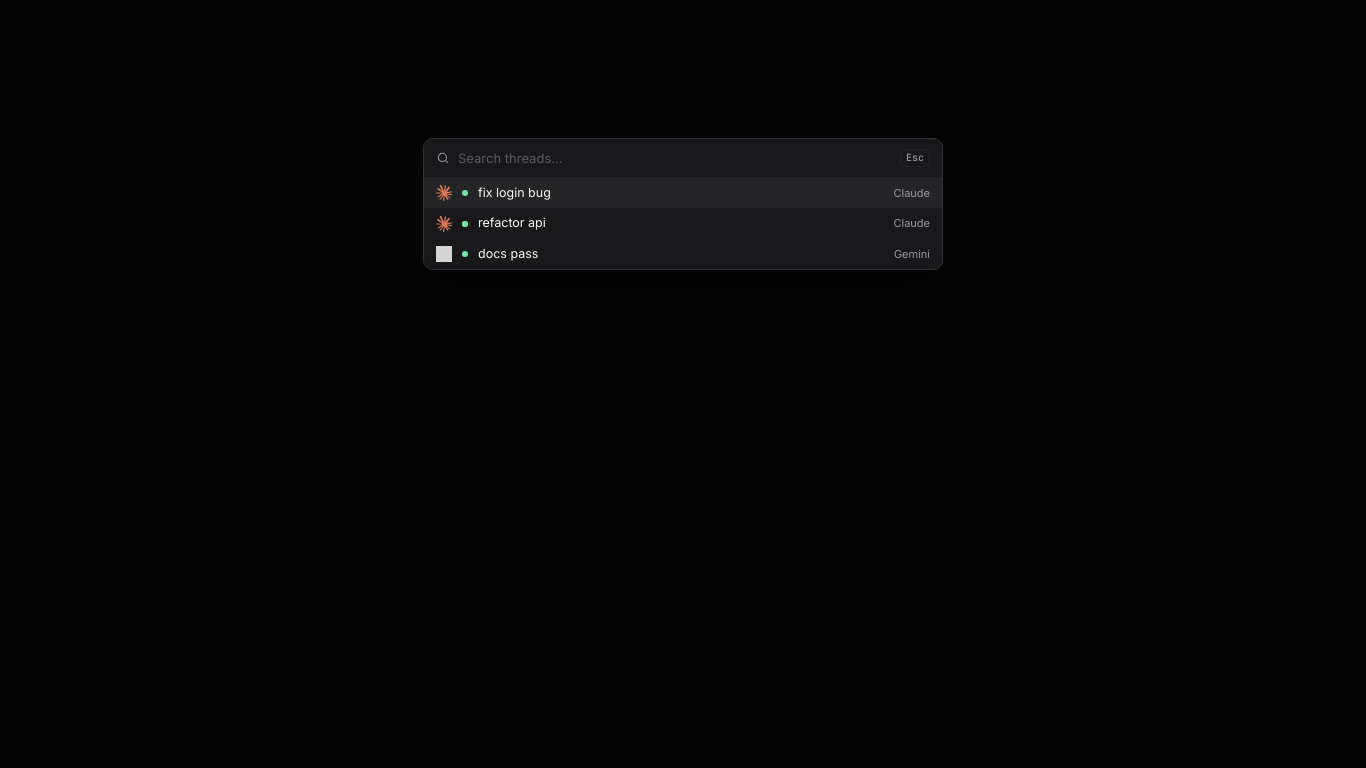
it: SearchCommand › filters threads by case-insensitive substring match on name
The image size is (1366, 768).
Type "API" into the field with placeholder "Search threads..." at (675, 158), box 458,150 -> 892,167
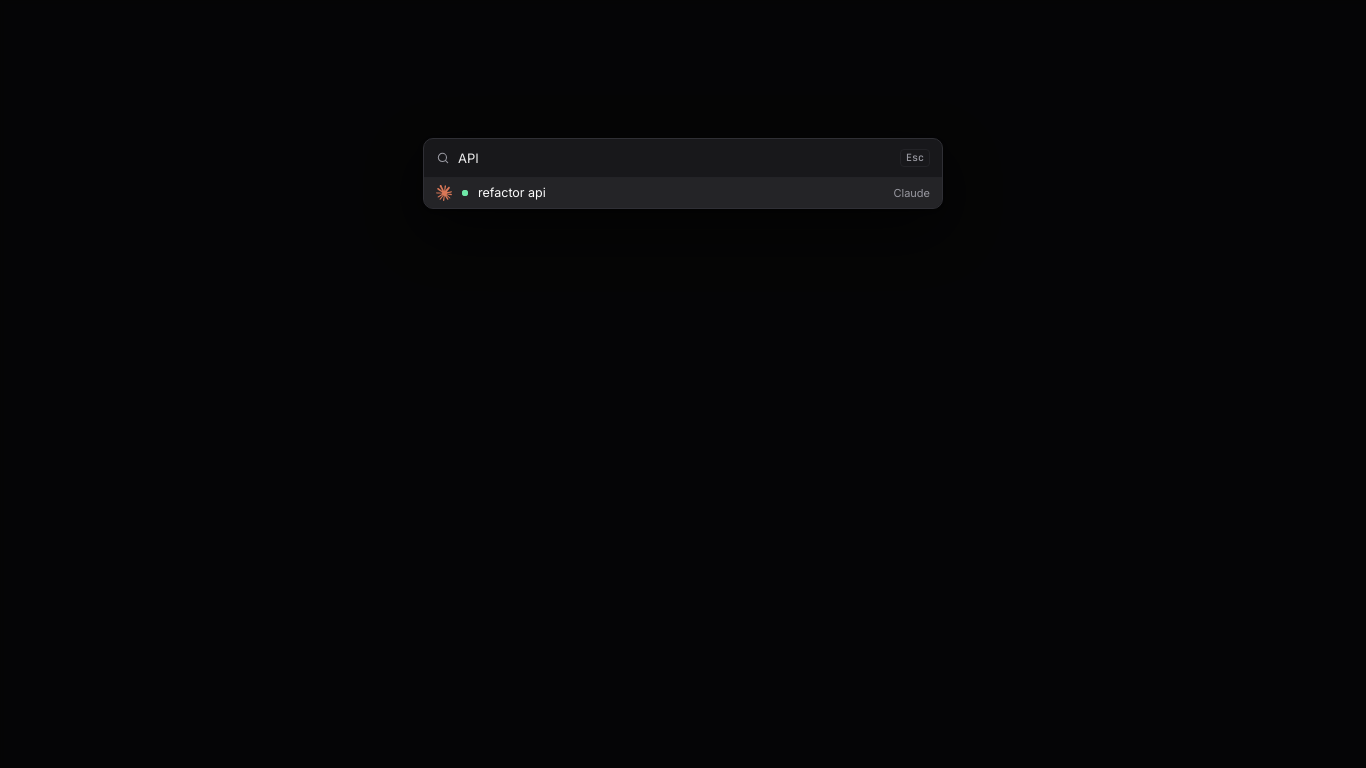
Expected: the text "refactor api" is shown, 478,185 -> 546,202
Expected: the button "fix login bug" is gone
